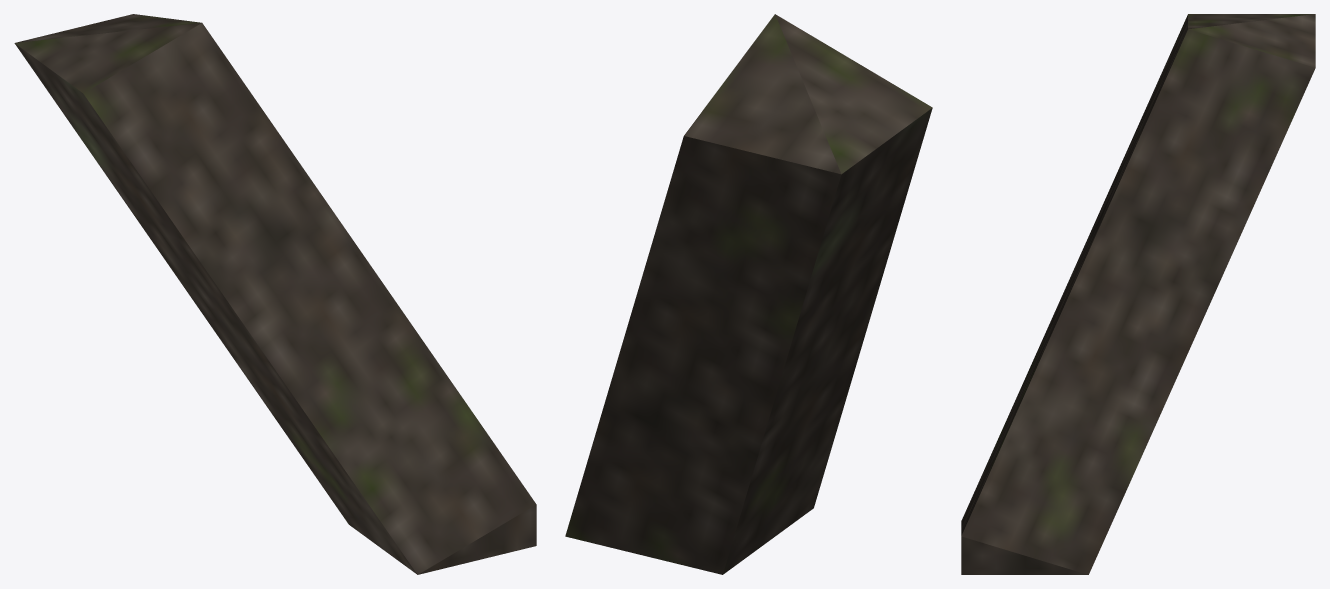
The model's file is spruce_branch_22.5_diagonal.obj.
3 views of the same model, side by side, from view 1: azimuth 30°, elevation 25°; view 2: azimuth 150°, elevation 25°; view 3: azimuth 270°, elevation 25° (orthographic). The views are drawn at different scales.
Visible parts, largest first — view 1: cube; view 2: cube; view 3: cube.
Boxes of the visible parts, x1=… form: cube: x1=14, y1=14, x2=536, y2=574; cube: x1=565, y1=14, x2=932, y2=574; cube: x1=961, y1=14, x2=1315, y2=574.
Bounding box in the file's own units: 1.56 × 2.19 × 1.56.
